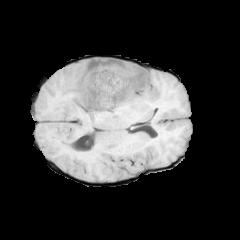glioma: (61, 58, 150, 119)
